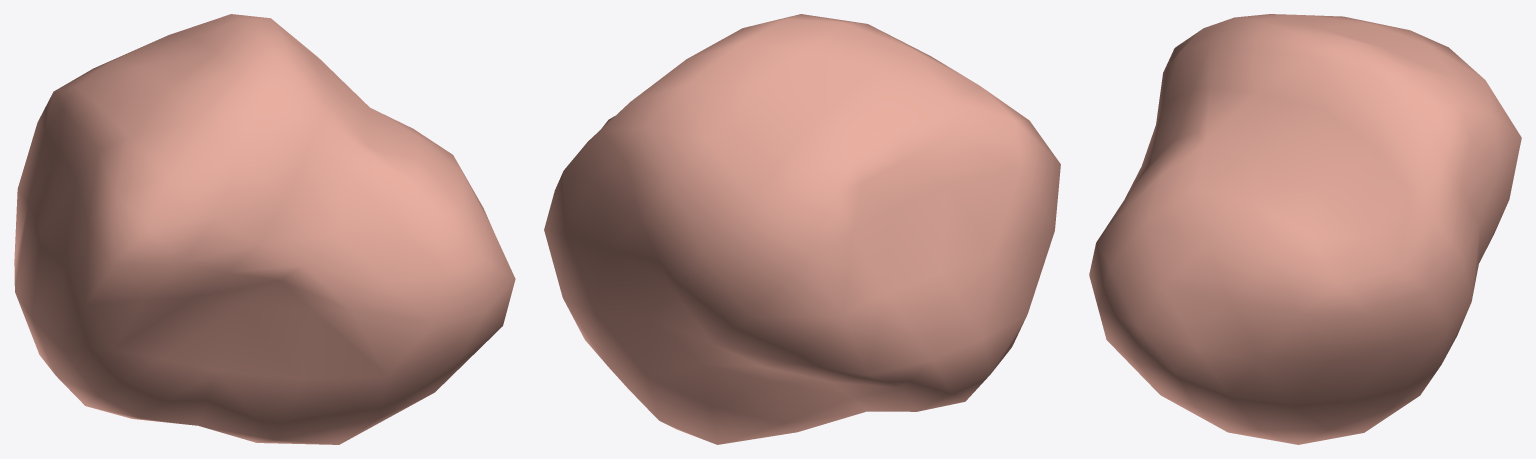
The model's file is Asteroid2.fbx.
3 renders of one model, left to right at view 1: azimuth 30°, elevation 25°; view 2: azimuth 150°, elevation 25°; view 3: azimuth 270°, elevation 25°, orthographic. The views are drawn at different scales.
Visible parts, largest first — view 1: asteroid_2; view 2: asteroid_2; view 3: asteroid_2.
Part boxes in pixels (left/top/right/bottom): asteroid_2: left=14, top=14, right=515, bottom=444; asteroid_2: left=544, top=14, right=1060, bottom=444; asteroid_2: left=1089, top=14, right=1521, bottom=444.
Bounding box in the file's own units: 195 × 175 × 183.
